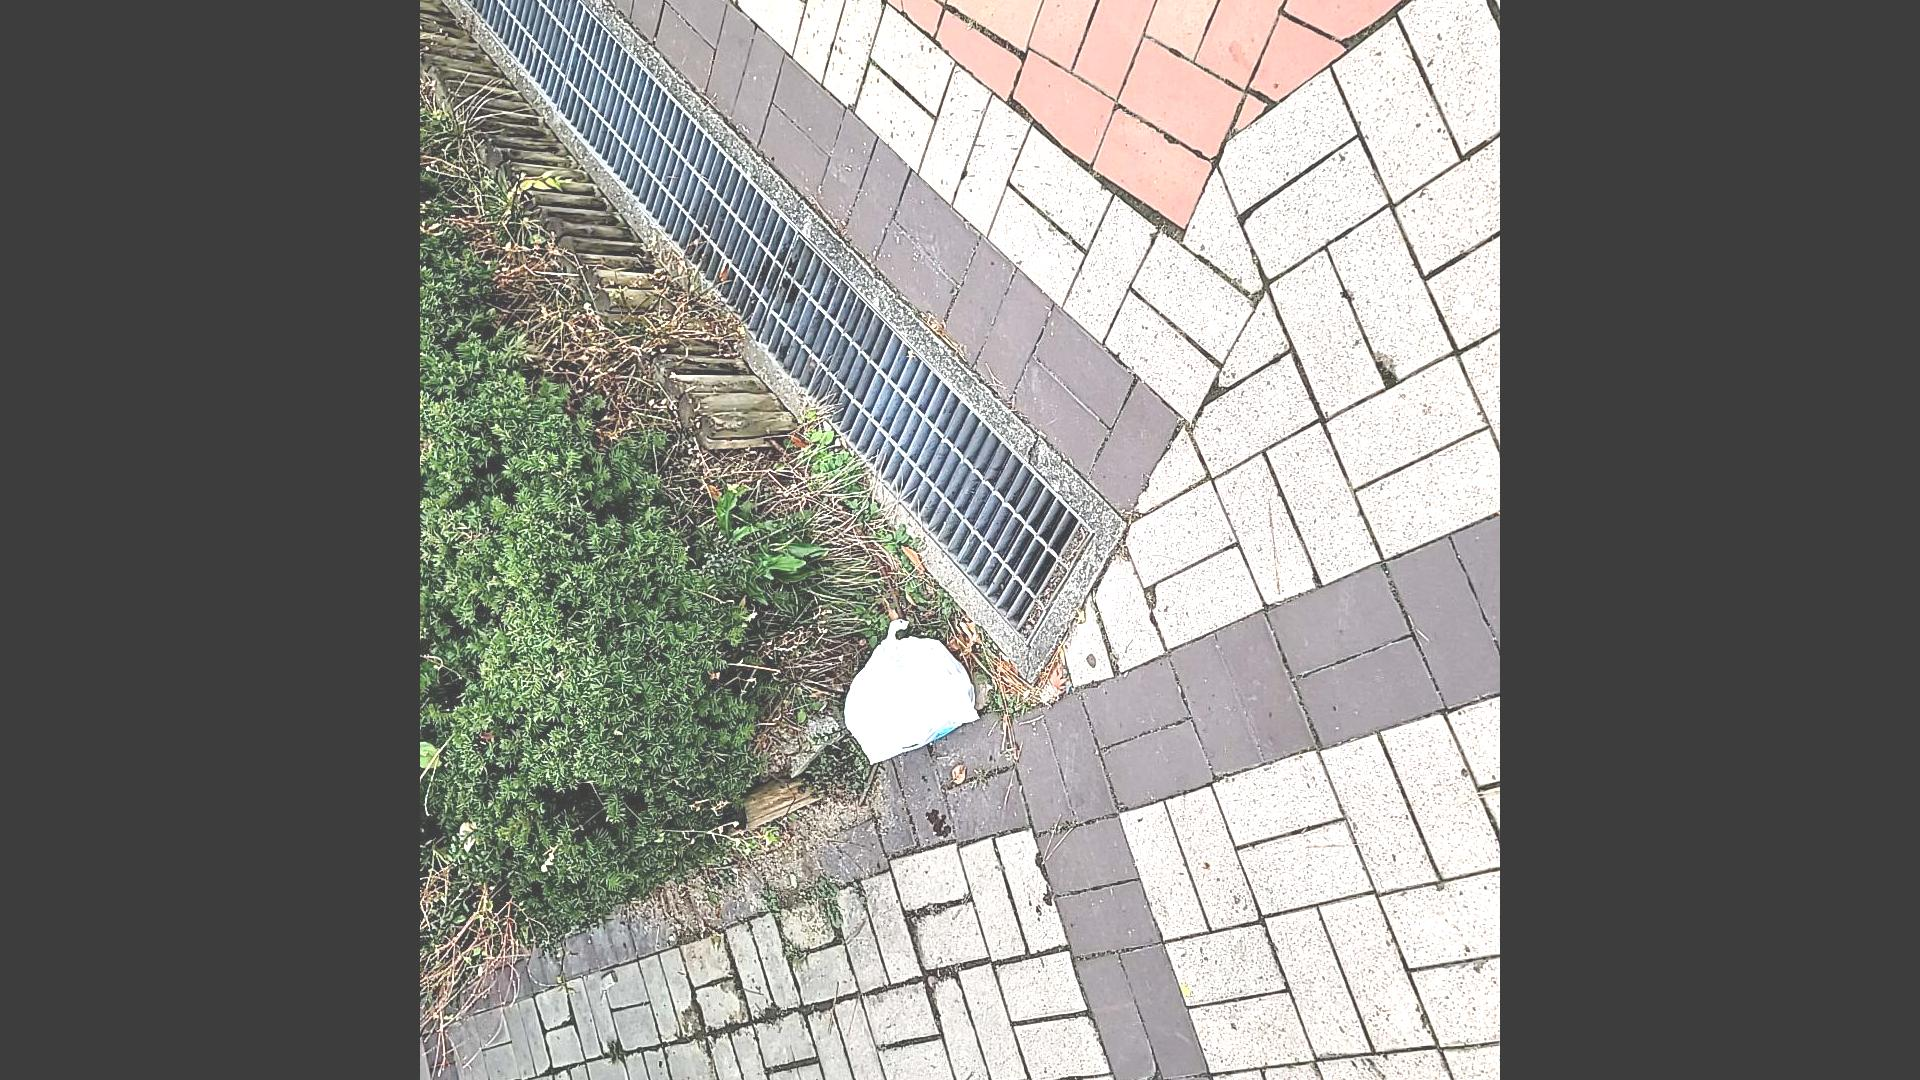white_bag: (837, 607, 980, 781)
